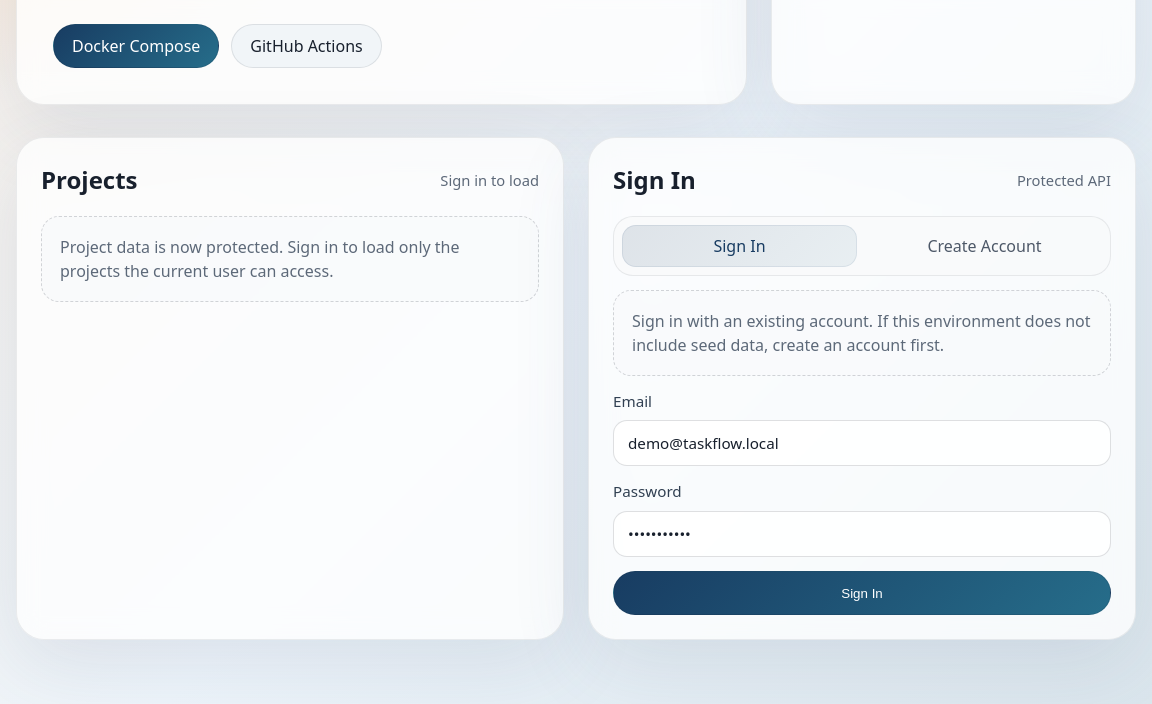
App › signs in successfully and persists the returned session
(page scrolled)
Click the button "Sign In": (862, 593) [613,571,1111,615]
(page scrolled)
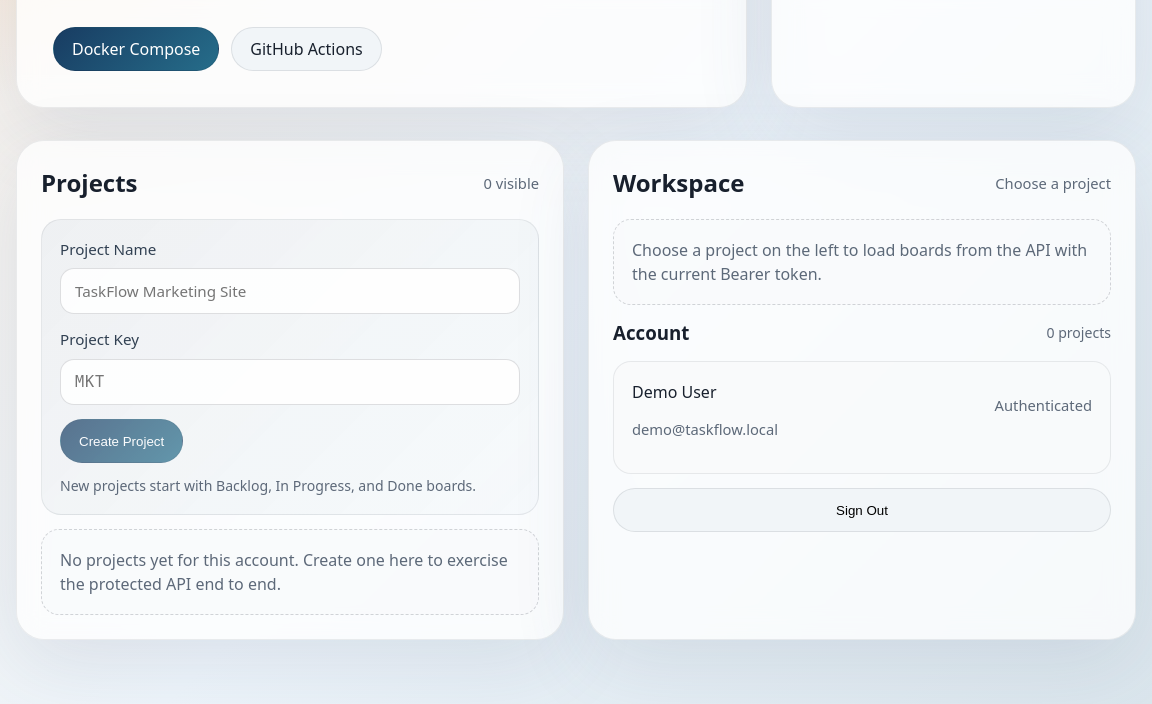
Result: the button "Sign Out" is shown at [613,488,1111,532]
